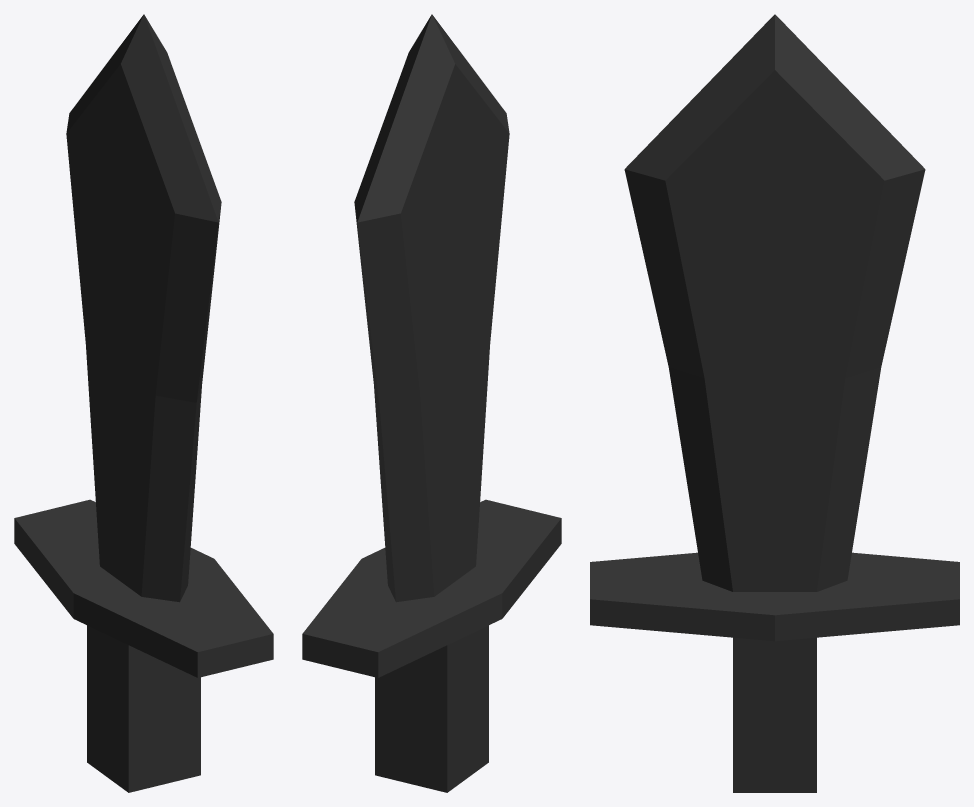
The model's file is Sword.fbx.
The picture shows the model from 3 angles, left to right: view 1: azimuth 30°, elevation 25°; view 2: azimuth 150°, elevation 25°; view 3: azimuth 270°, elevation 25°; orthographic projection.
Visible parts, largest first — view 1: Sword; view 2: Sword; view 3: Sword.
Part boxes in pixels (<box>): Sword: <box>14,14,273,792</box>; Sword: <box>302,14,561,792</box>; Sword: <box>590,14,959,792</box>.
Size of the model in its own units: 0.2004 by 0.0889 by 0.4551.
